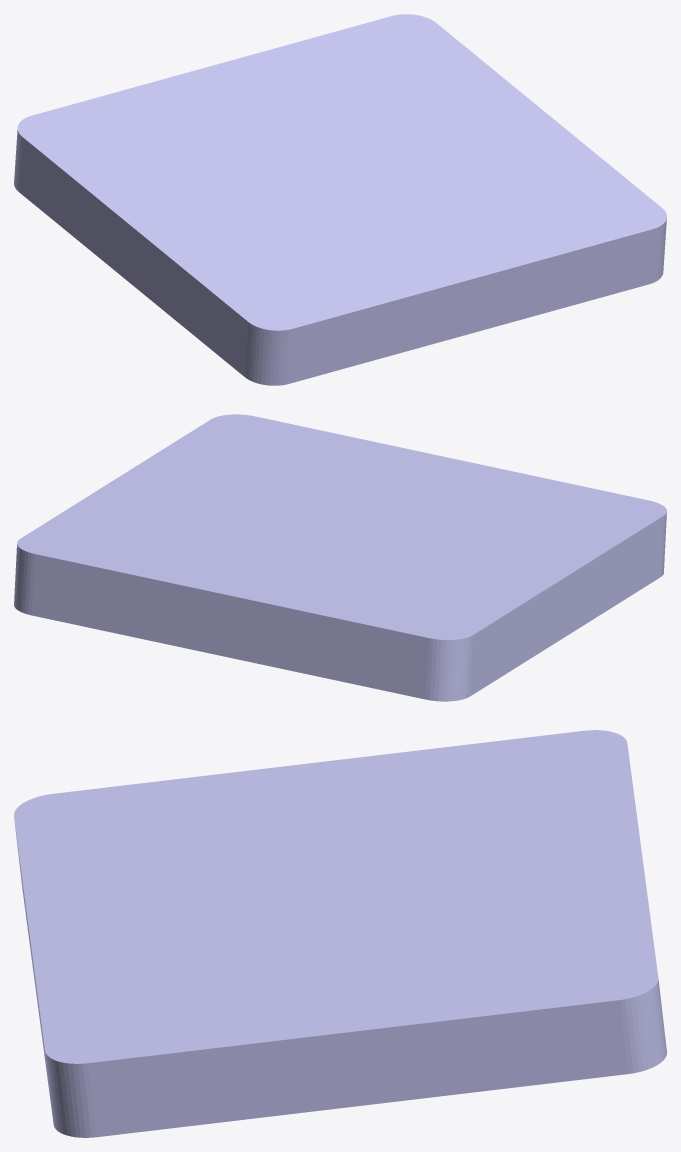
Rendered from original-68.obj.
3 views of the same model, one above another, from view 1: azimuth 30°, elevation 25°; view 2: azimuth 150°, elevation 25°; view 3: azimuth 270°, elevation 25° (orthographic). The views are drawn at different scales.
Parts seen in each view (by area): view 1: mesh66/mesh66-geometry#mesh66-geometry; view 2: mesh66/mesh66-geometry#mesh66-geometry; view 3: mesh66/mesh66-geometry#mesh66-geometry.
Part boxes in pixels (left/top/right/bottom): mesh66/mesh66-geometry#mesh66-geometry: left=14, top=14, right=666, bottom=385; mesh66/mesh66-geometry#mesh66-geometry: left=14, top=414, right=666, bottom=701; mesh66/mesh66-geometry#mesh66-geometry: left=14, top=730, right=666, bottom=1137.
Size of the model in its own units: 0.0741 by 0.0162 by 0.0725.
